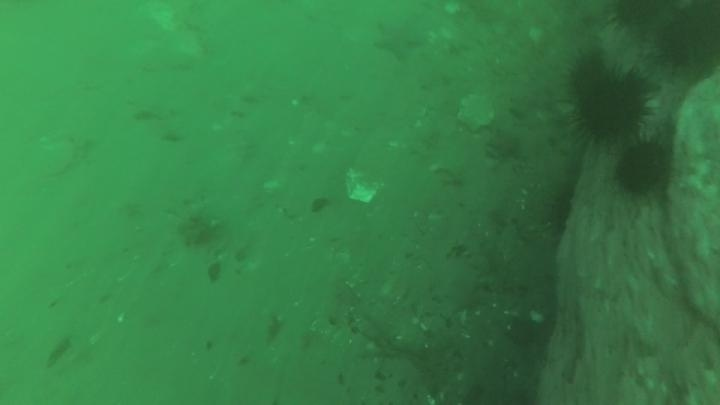echinus: (571, 66, 654, 145), (653, 3, 719, 75), (611, 136, 675, 199), (564, 49, 611, 100), (607, 1, 679, 33), (544, 181, 579, 242)
starfish: (371, 17, 428, 65), (483, 128, 527, 165)
